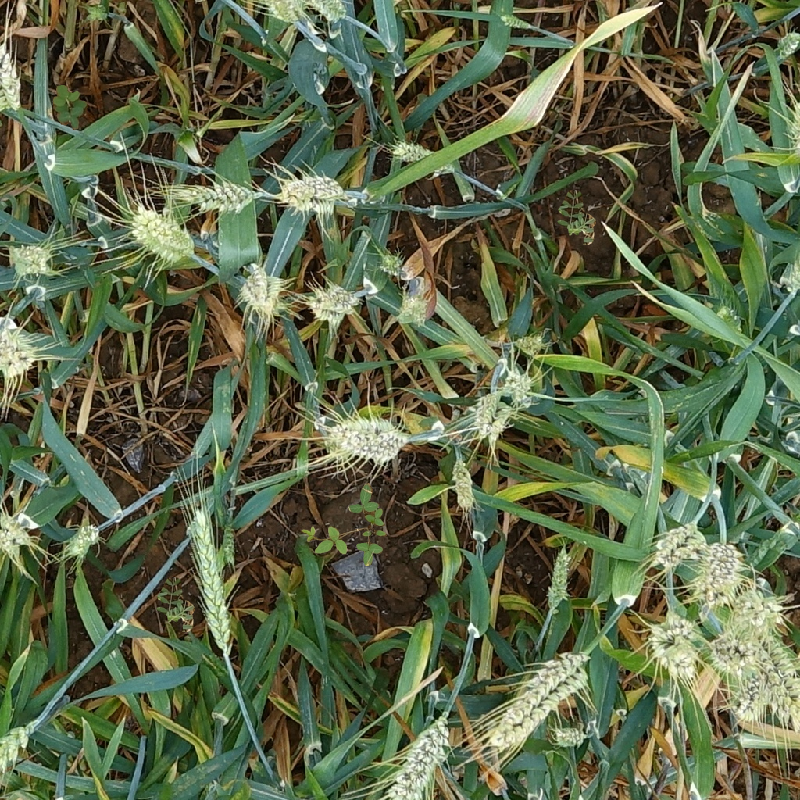spikelet: (485, 649, 589, 753), (186, 504, 233, 651), (382, 714, 452, 799), (322, 414, 409, 465), (128, 203, 199, 264), (643, 617, 700, 683), (167, 176, 261, 216), (693, 540, 744, 606), (277, 171, 348, 214), (236, 259, 284, 320), (729, 587, 785, 634), (1, 315, 39, 380), (649, 521, 700, 569), (304, 281, 359, 324), (5, 238, 58, 281), (467, 389, 506, 441), (729, 674, 771, 720), (1, 34, 24, 114), (706, 637, 748, 679), (1, 508, 36, 558), (1, 723, 30, 782), (545, 546, 572, 609), (500, 367, 537, 409), (449, 456, 475, 512), (62, 522, 100, 560), (395, 292, 430, 328), (259, 1, 305, 25), (512, 328, 550, 356), (389, 139, 431, 164), (376, 249, 409, 280), (783, 99, 800, 159), (776, 255, 800, 297), (305, 1, 348, 23), (773, 29, 800, 61), (552, 725, 587, 747)
weed: (301, 483, 387, 566), (557, 190, 596, 245), (156, 577, 195, 632), (53, 85, 88, 130)
